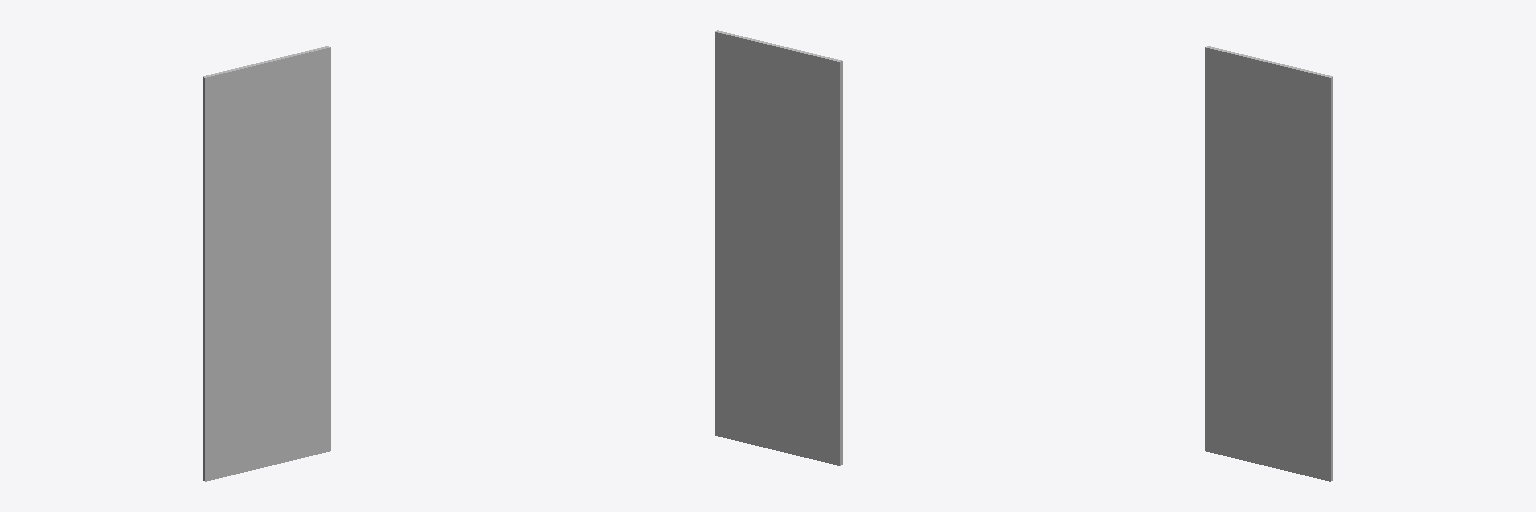
Rendered from ceiling.obj.
3 renders of one model, left to right at view 1: azimuth 30°, elevation 25°; view 2: azimuth 150°, elevation 25°; view 3: azimuth 330°, elevation 25°, orthographic.
Visible parts, largest first — view 1: Cube.001_Cube.026; view 2: Cube.001_Cube.026; view 3: Cube.001_Cube.026.
Part boxes in pixels (x1,y1,x2,y2): Cube.001_Cube.026: (203,46,330,481); Cube.001_Cube.026: (715,30,842,465); Cube.001_Cube.026: (1205,46,1332,481).
Size of the model in its own units: 8.04 by 24.73 by 2.62.